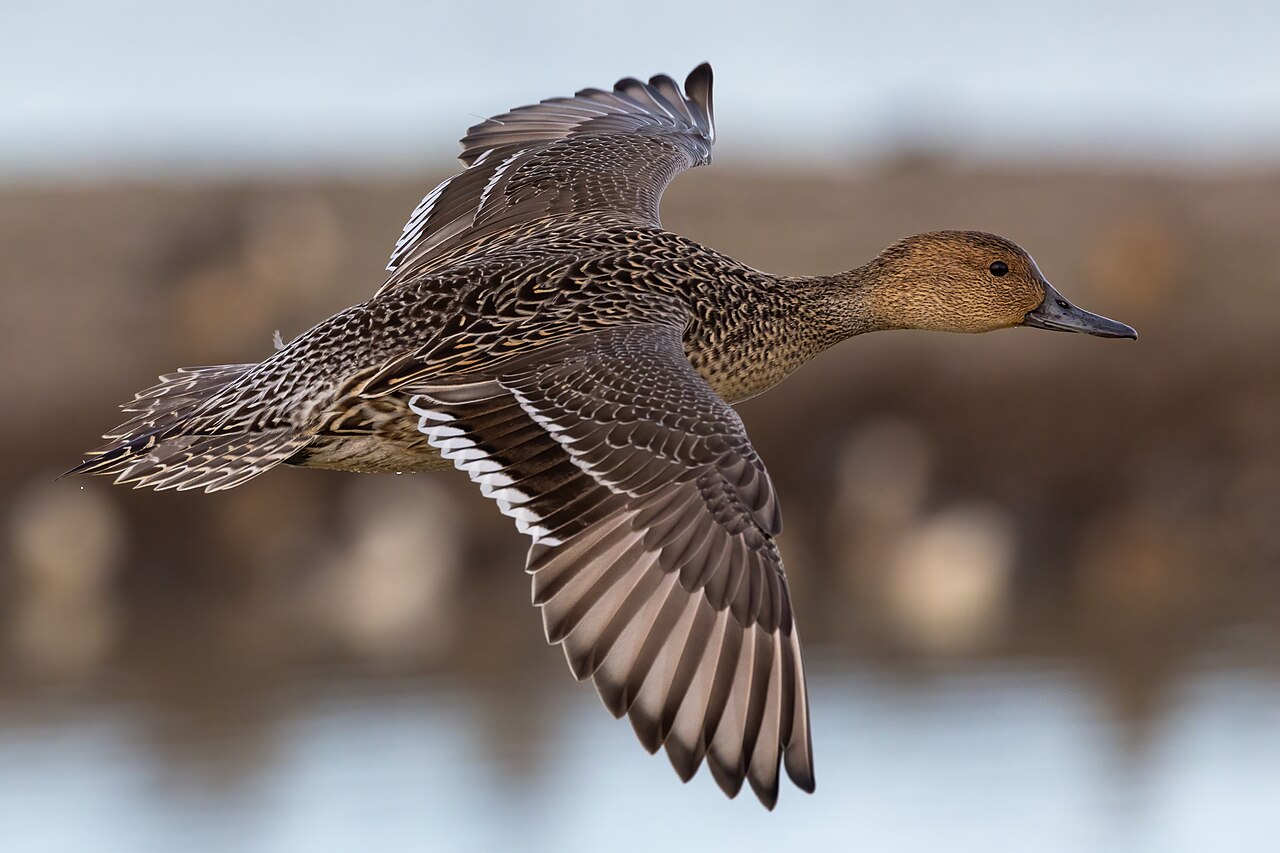bird: (55, 58, 1140, 813)
